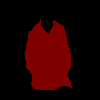giaccone: (24, 18, 72, 90)
